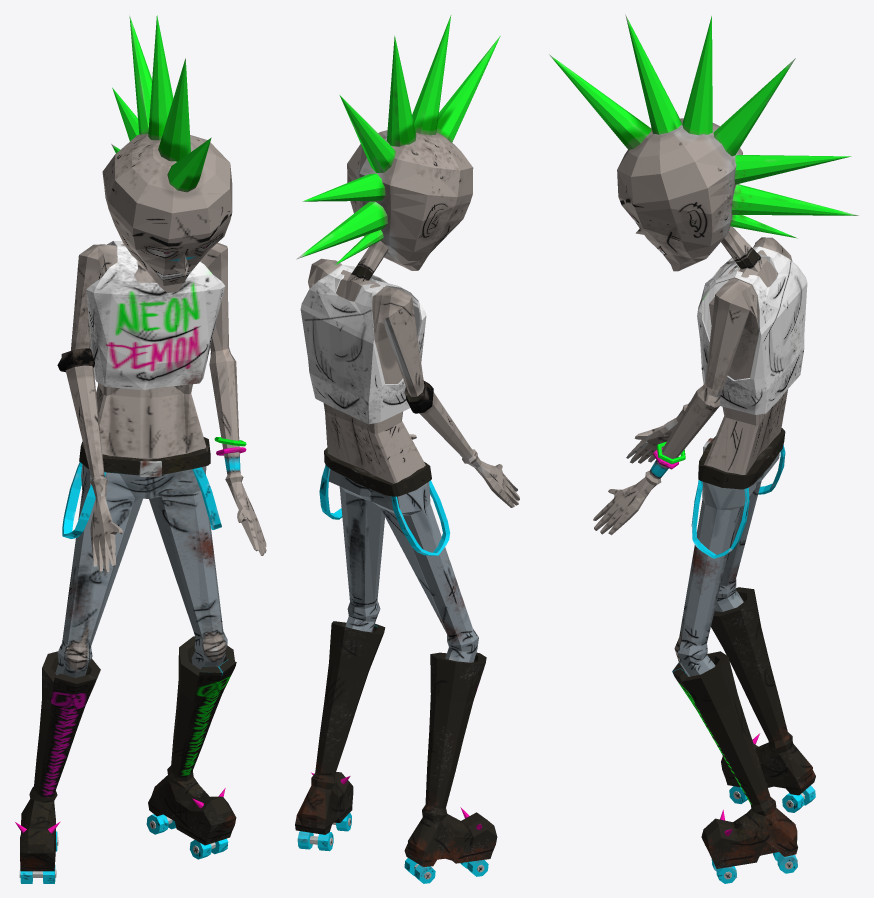
Rendered from punkAnimation_000008.obj.
The picture shows the model from 3 angles, left to right: view 1: azimuth 30°, elevation 25°; view 2: azimuth 150°, elevation 25°; view 3: azimuth 270°, elevation 25°; orthographic projection. The views are drawn at different scales.
Parts seen in each view (by area): view 1: Cube.004_Cube.003; view 2: Cube.004_Cube.003; view 3: Cube.004_Cube.003.
Boxes of the visible parts, x1,y1,x2,y2 form: Cube.004_Cube.003: [15, 15, 266, 883]; Cube.004_Cube.003: [295, 15, 519, 883]; Cube.004_Cube.003: [549, 14, 858, 883].
Size of the model in its own units: 1.82 by 7.39 by 2.5.
